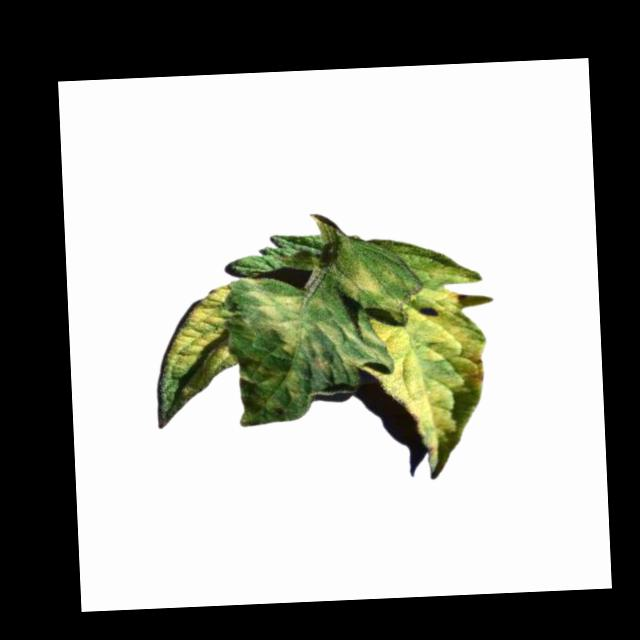Leaf_Mold: (358, 256, 494, 474), (162, 282, 242, 405), (244, 274, 322, 356), (237, 354, 303, 428), (321, 312, 390, 372), (338, 262, 377, 301)
